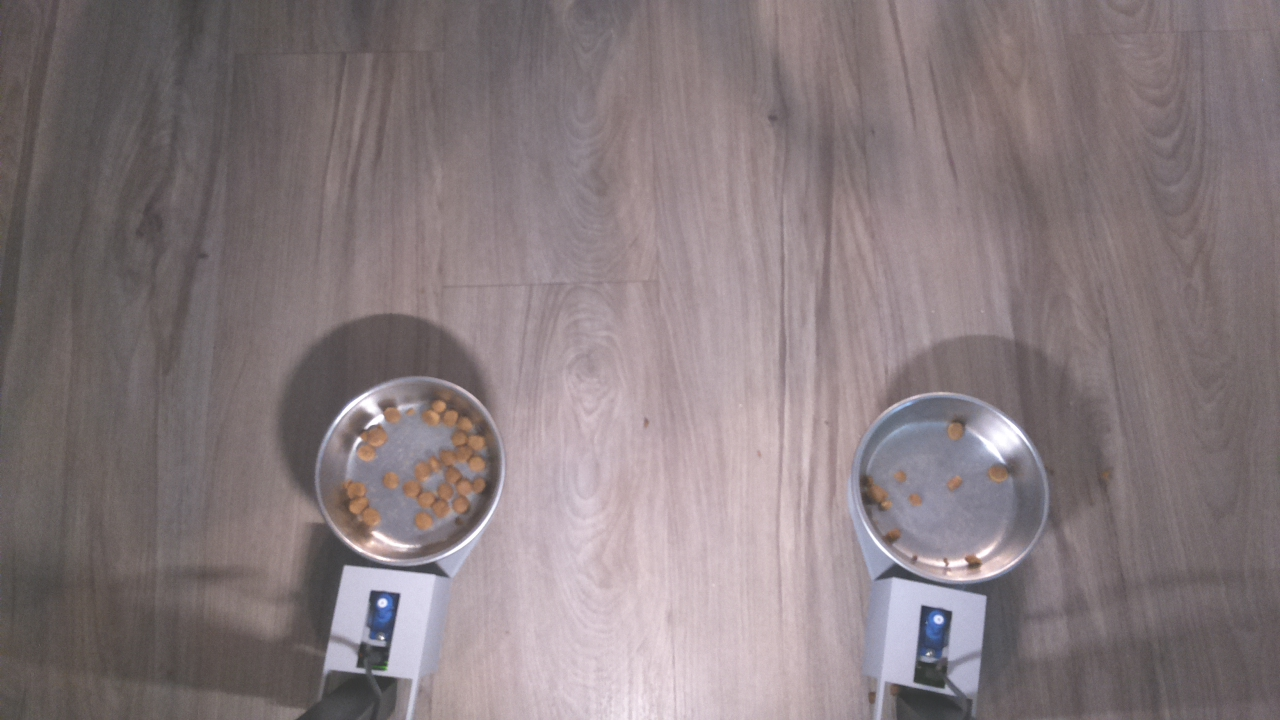open_bowl: (308, 372, 508, 571), (852, 389, 1050, 586)
